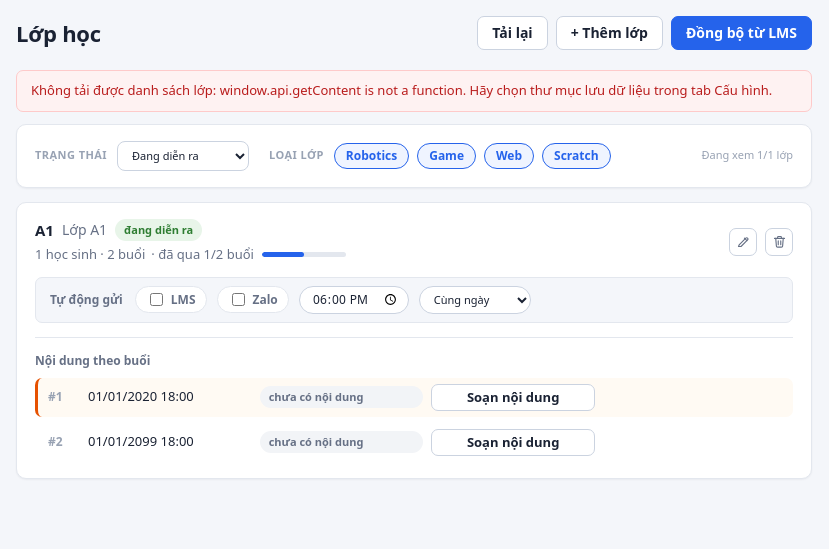
it: ClassesPage › lưu lịch lỗi thì khôi phục giá trị cũ và hiện lỗi
The image size is (829, 549).
Click the checkbox named "Tự động LMS A1" at (156, 300), box [150, 293, 163, 306]
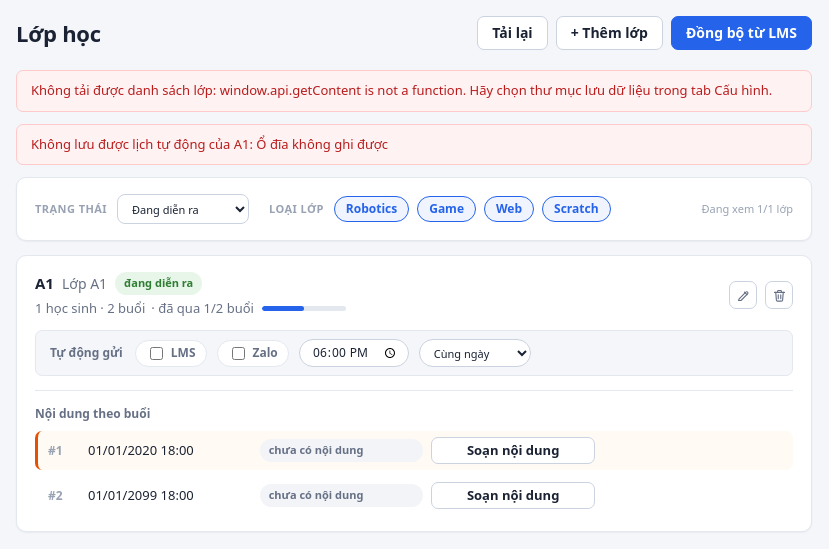
Expected: the checkbox named "Tự động LMS A1" is not checked, [150, 346, 163, 360]
Now the text "Không lưu được lịch tự động của A1: Ổ đĩa không ghi được" is shown, box [16, 124, 812, 165]
